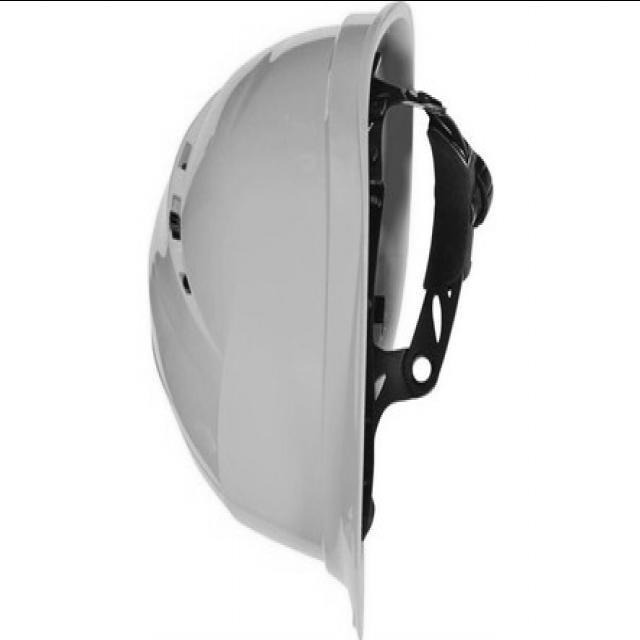safety_helmet: (149, 0, 496, 640)
